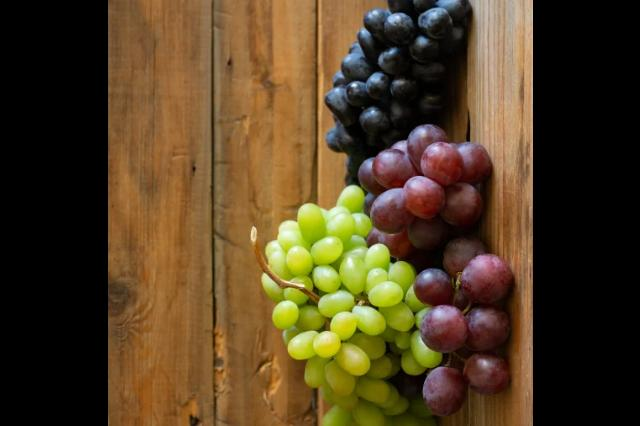Grapes: (256, 186, 433, 426), (362, 128, 511, 408), (325, 0, 468, 129)
